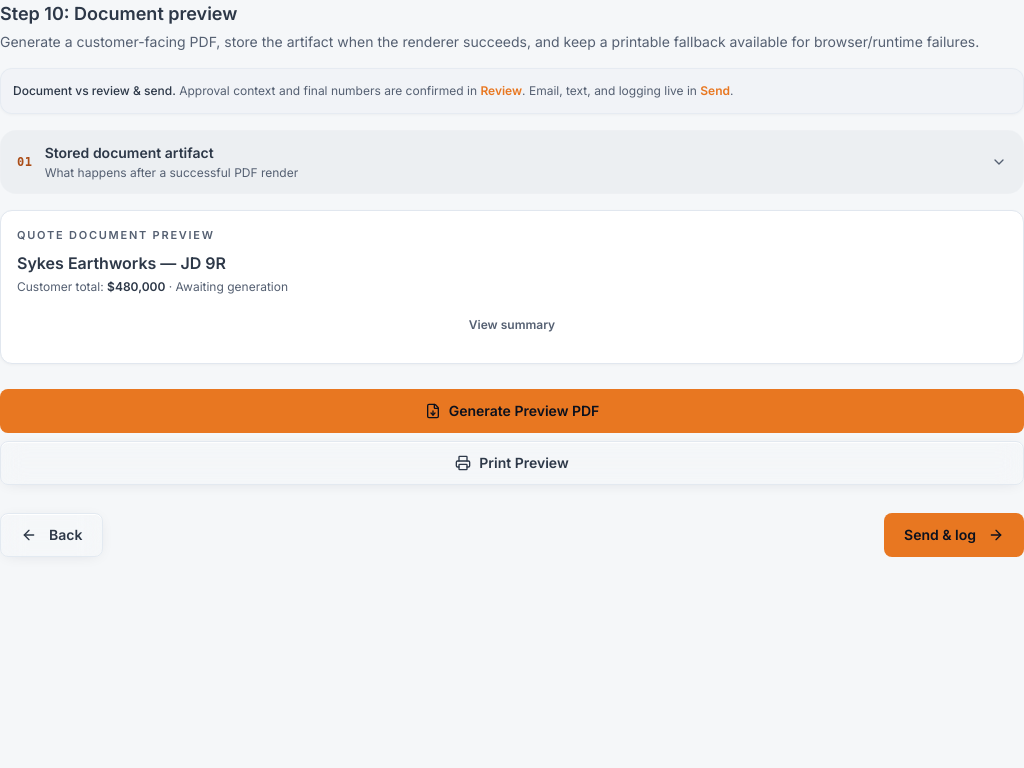
Test: DocumentStep — mobile surface › opens the preview-summary inside MobileBottomSheet on tap
Click the button with test id "document-step-open-preview".
click(512, 325)  # box [17,303,1007,347]
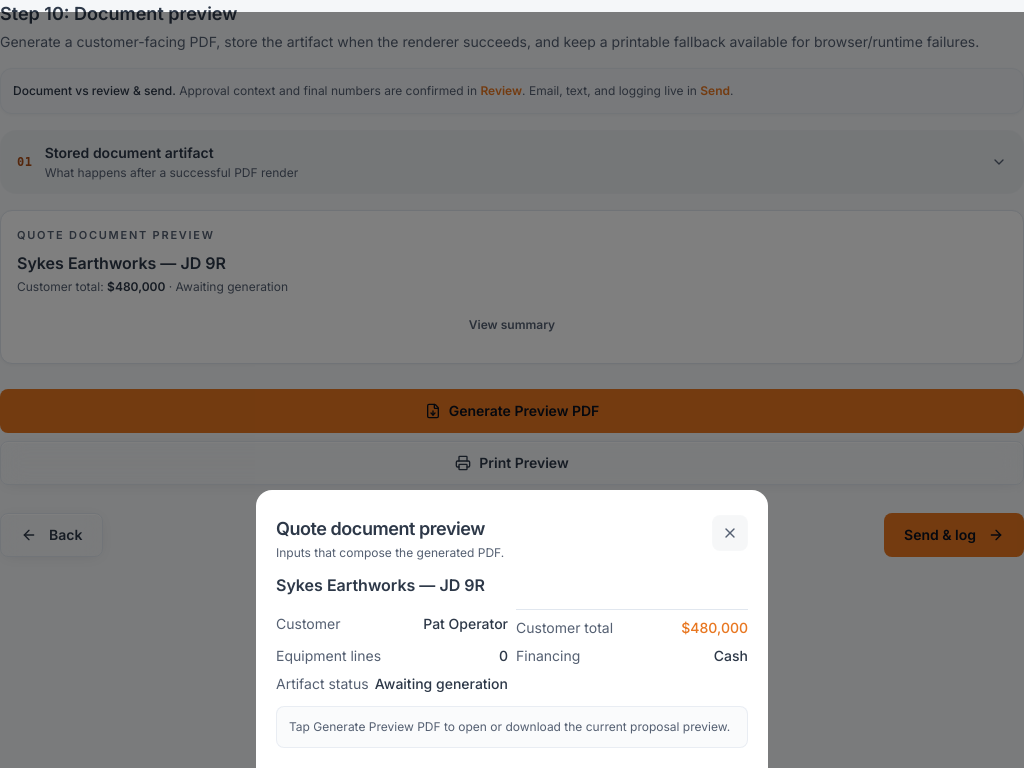
Now the element with test id "document-step-preview-summary" is shown, box [276,573,748,748]
